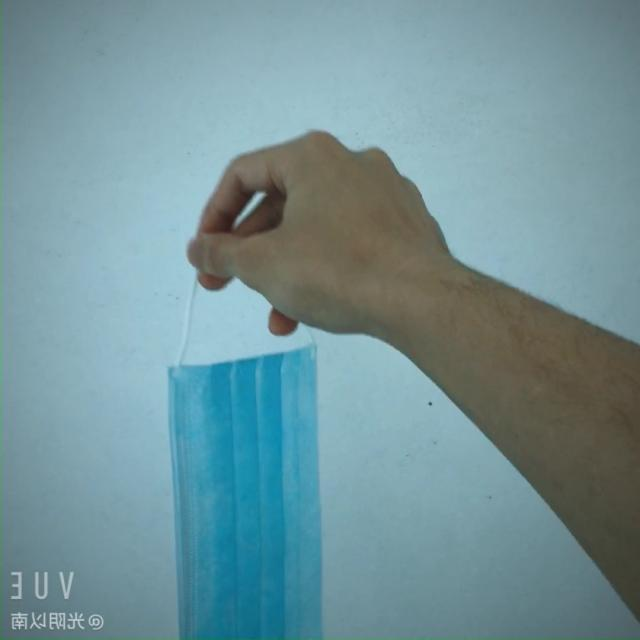face mask: (164, 335, 356, 631)
